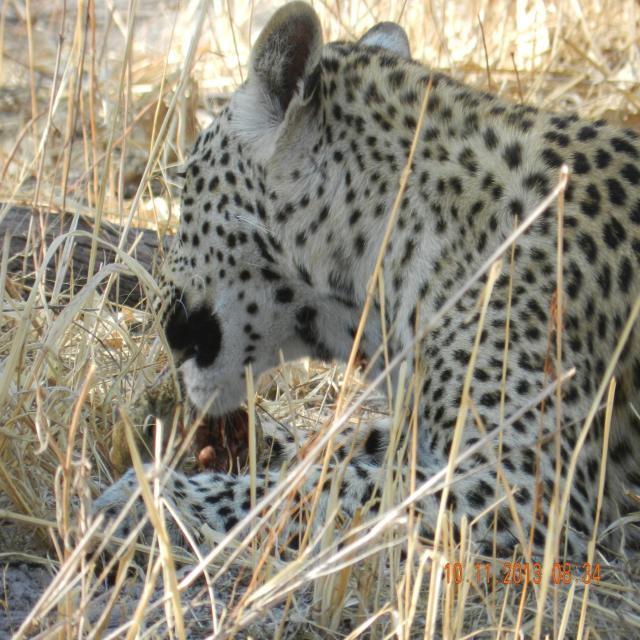Leopard: (66, 16, 640, 578)
